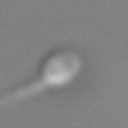normal: (1, 79, 45, 109)
